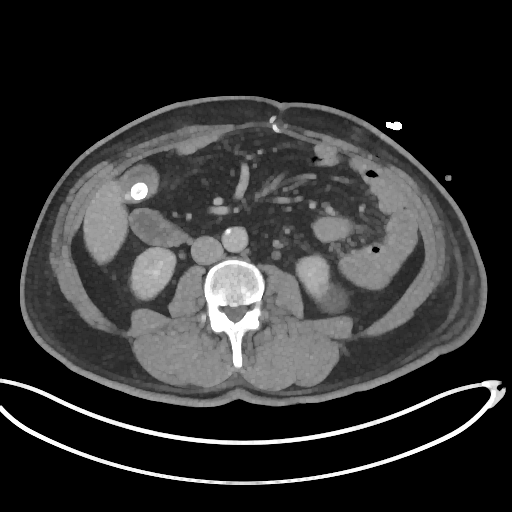Lesion: (315, 283, 356, 315)
